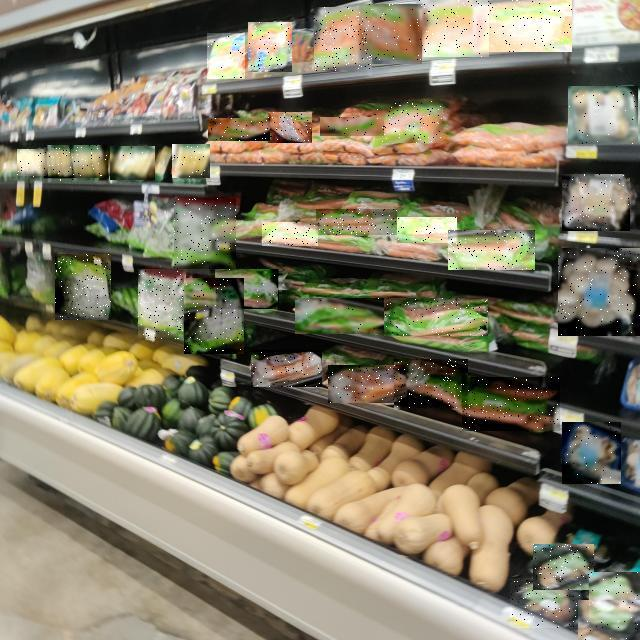Carrot: (463, 377, 561, 431), (473, 0, 572, 52), (419, 0, 489, 57), (384, 298, 488, 336), (359, 4, 422, 64), (314, 8, 372, 72), (394, 360, 468, 410), (448, 230, 535, 270), (295, 298, 384, 334), (328, 365, 406, 403), (375, 101, 443, 143), (216, 269, 282, 309), (251, 350, 322, 387), (249, 22, 293, 72), (316, 209, 397, 235), (207, 33, 245, 79), (397, 217, 457, 243), (208, 118, 270, 141), (268, 112, 312, 143), (263, 222, 319, 246), (320, 118, 384, 138)
Corn: (110, 146, 155, 180), (173, 145, 211, 179), (72, 145, 108, 178), (44, 146, 74, 182), (17, 150, 47, 178)
Lettuce: (184, 278, 244, 354), (175, 198, 237, 269), (55, 254, 111, 320), (138, 270, 186, 340)
Mushroom: (558, 249, 640, 337), (569, 86, 639, 144), (562, 174, 630, 231), (562, 423, 621, 485), (510, 578, 581, 628), (533, 545, 594, 591), (578, 600, 640, 640), (589, 573, 640, 619)
